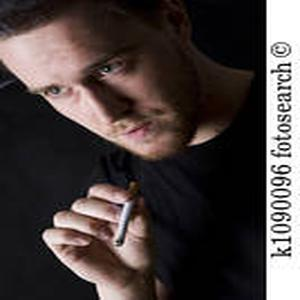cigarette: (113, 182, 139, 248)
